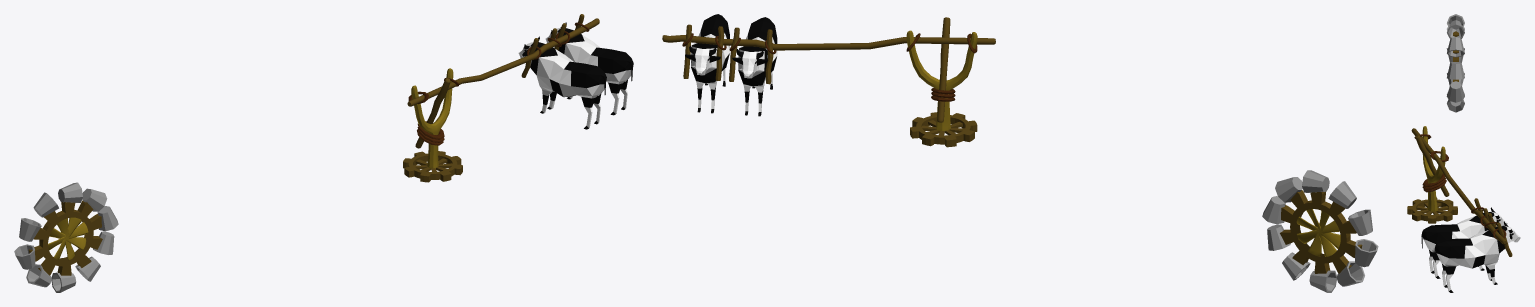
File: cow_WW_Still.fbx
3 views of the same model, side by side, from view 1: azimuth 30°, elevation 25°; view 2: azimuth 150°, elevation 25°; view 3: azimuth 270°, elevation 25° (orthographic). The views are drawn at different scales.
Visible parts, largest first — view 1: Cube, Cylinder.003; view 2: Cube, Cylinder.003; view 3: Cube, Cylinder.003.
Boxes of the visible parts, bbox=[...] form: Cube: bbox=[403, 14, 633, 182]; Cylinder.003: bbox=[14, 182, 118, 292]; Cube: bbox=[662, 14, 995, 147]; Cylinder.003: bbox=[1262, 170, 1378, 292]; Cube: bbox=[1407, 126, 1520, 292]; Cylinder.003: bbox=[1446, 14, 1464, 112].
Size of the model in its own units: 3521 by 775 by 677.
